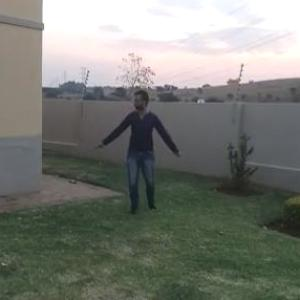land: (92, 94, 189, 226)
